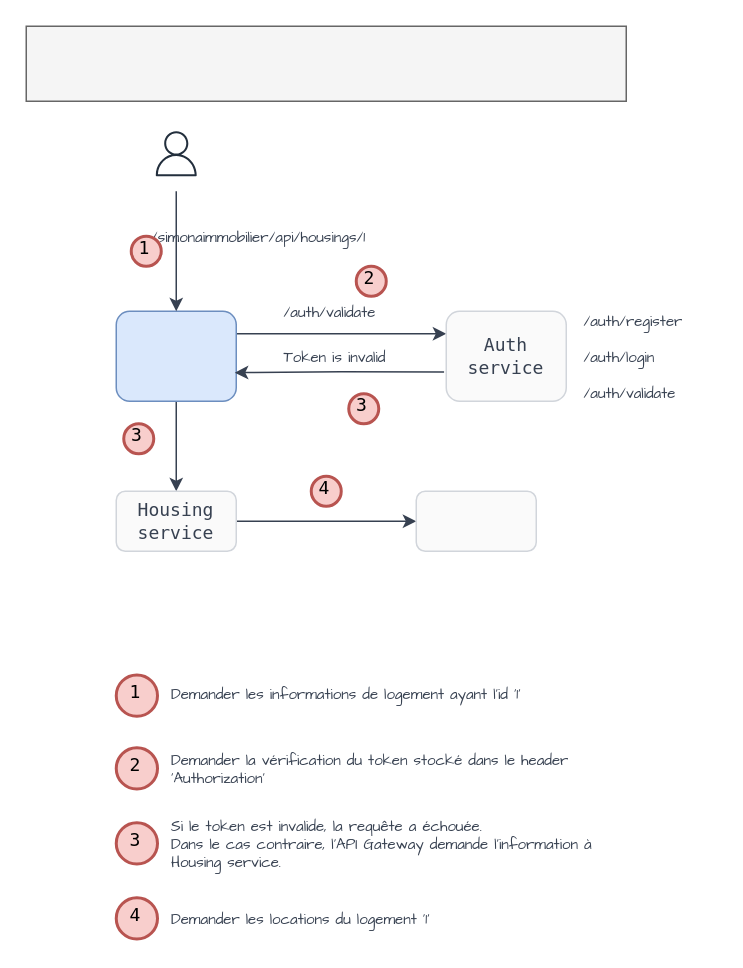
The diagram is 743 pixels wide and 968 high, and some of its shapes have lost their labels. The box of each missing label's shape, as (x1, y1, x2, y2) in pixels:
API Gateway: (115, 310, 236, 401)
Les étapes pour chercher les informations d'un logement: (25, 25, 626, 101)
Rental sevice: (415, 490, 536, 551)
